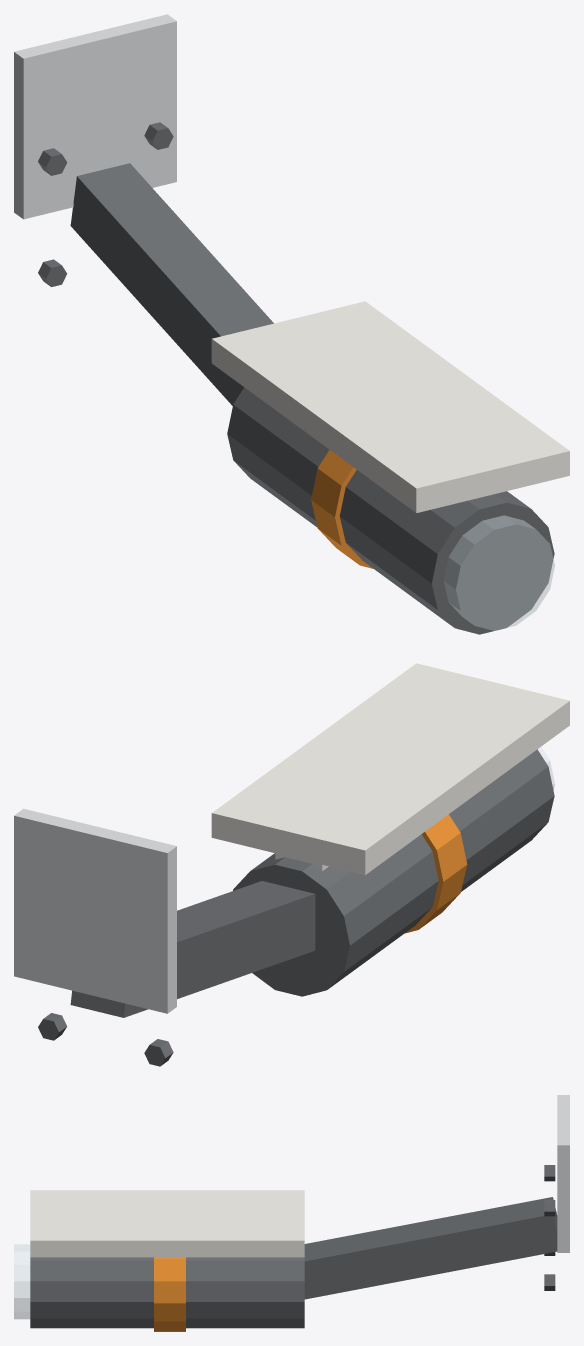
File: self-storage-facility-and-loading-bay-self-storage-fac-fedf9f45.glb
The picture shows the model from 3 angles, top to bottom: view 1: azimuth 30°, elevation 25°; view 2: azimuth 150°, elevation 25°; view 3: azimuth 270°, elevation 25°; orthographic projection. The views are drawn at different scales.
Parts seen in each view (by area): view 1: self-storage-facility-and-loading-bay-cctv-camera-bracket; view 2: self-storage-facility-and-loading-bay-cctv-camera-bracket; view 3: self-storage-facility-and-loading-bay-cctv-camera-bracket.
Part boxes in pixels (x1,y1,x2,y2): self-storage-facility-and-loading-bay-cctv-camera-bracket: (14, 14, 569, 634); self-storage-facility-and-loading-bay-cctv-camera-bracket: (14, 663, 569, 1066); self-storage-facility-and-loading-bay-cctv-camera-bracket: (14, 1095, 569, 1331).
Size of the model in its own units: 0.13 by 0.2496 by 0.608.
